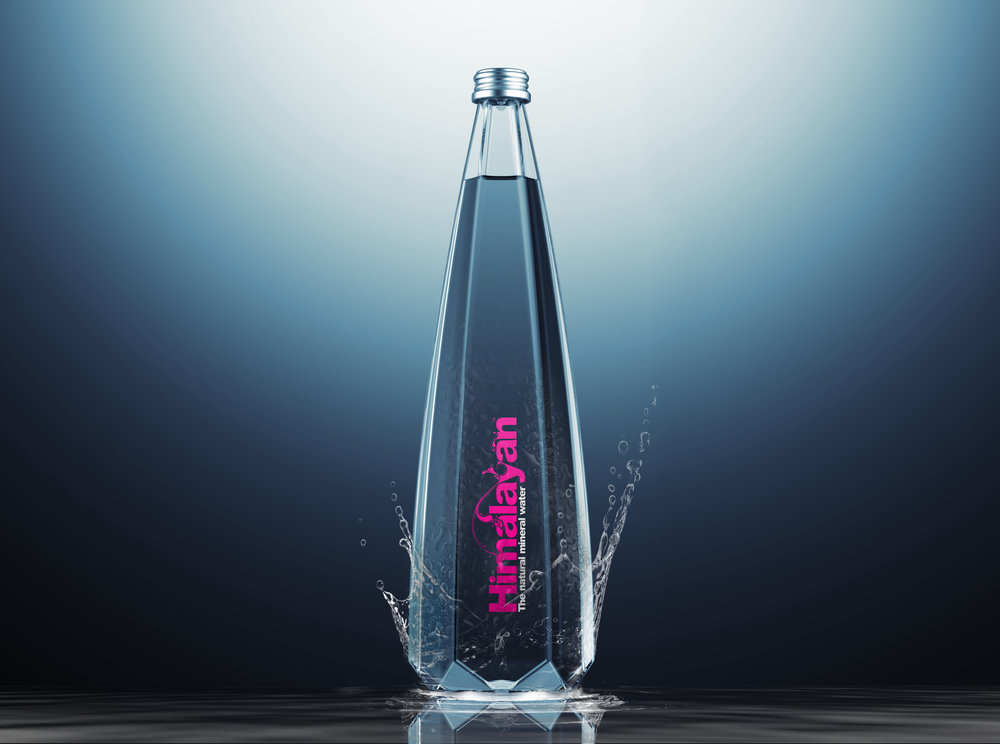glass of water: (435, 159, 595, 724)
